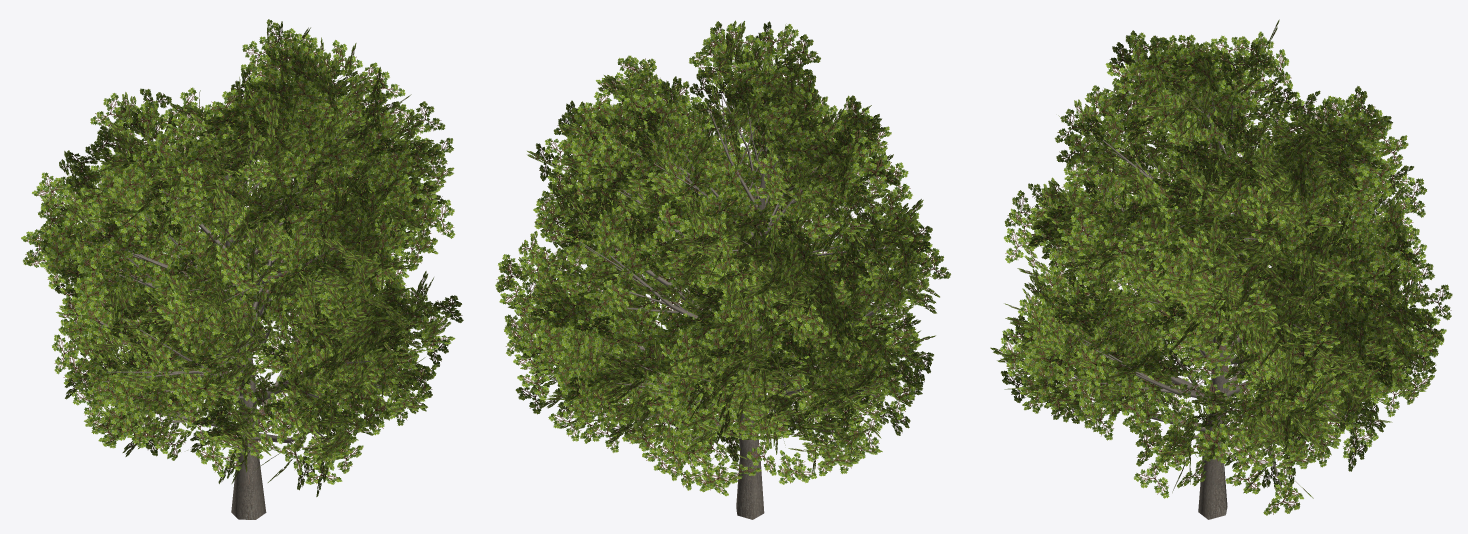
Rendered from Acer_Pseudoplatanus_Spring_Adult.glb.
The picture shows the model from 3 angles, left to right: view 1: azimuth 30°, elevation 25°; view 2: azimuth 150°, elevation 25°; view 3: azimuth 270°, elevation 25°; orthographic projection. The views are drawn at different scales.
Parts seen in each view (by area): view 1: Acer_Pseudoplatanus_Spring_Adult__LOD3; view 2: Acer_Pseudoplatanus_Spring_Adult__LOD3; view 3: Acer_Pseudoplatanus_Spring_Adult__LOD3.
Part boxes in pixels (x1,y1,x2,y2): Acer_Pseudoplatanus_Spring_Adult__LOD3: [21, 19, 463, 519]; Acer_Pseudoplatanus_Spring_Adult__LOD3: [495, 20, 950, 519]; Acer_Pseudoplatanus_Spring_Adult__LOD3: [990, 19, 1452, 519].
Size of the model in its own units: 17.44 by 19.74 by 17.02.
Materials: 2 (2 with a texture image).
